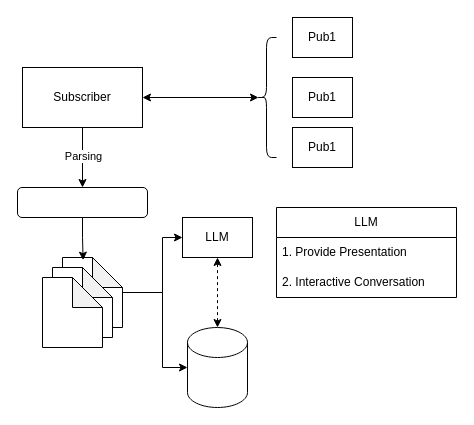
This 474x425 diagram has some shape labels left out. The shapes that lost their labels are listed below. From the top down, each one's centre as x and y in pixels, then its label:
pixel 82 202: Filtering
pixel 217 367: RAG
